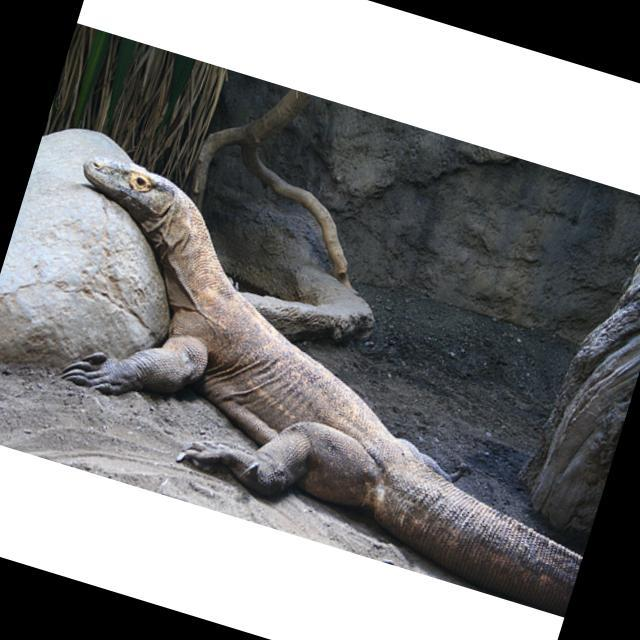KomodoDragon: (0, 152, 640, 614)
